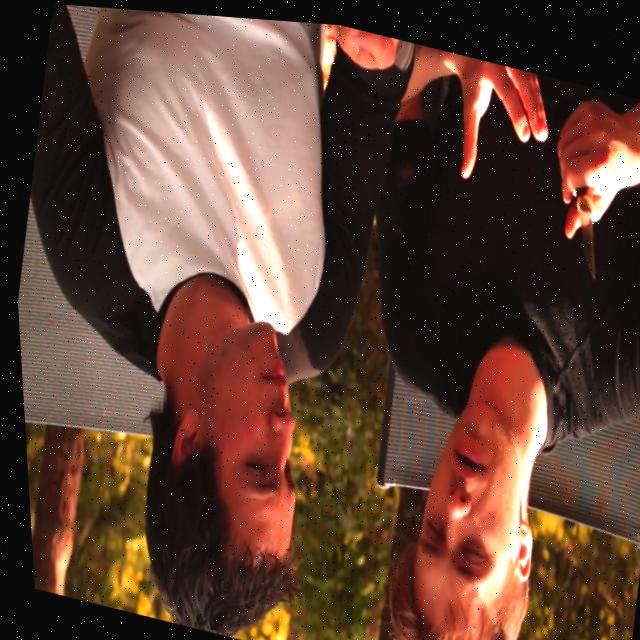knife: (555, 176, 609, 279)
